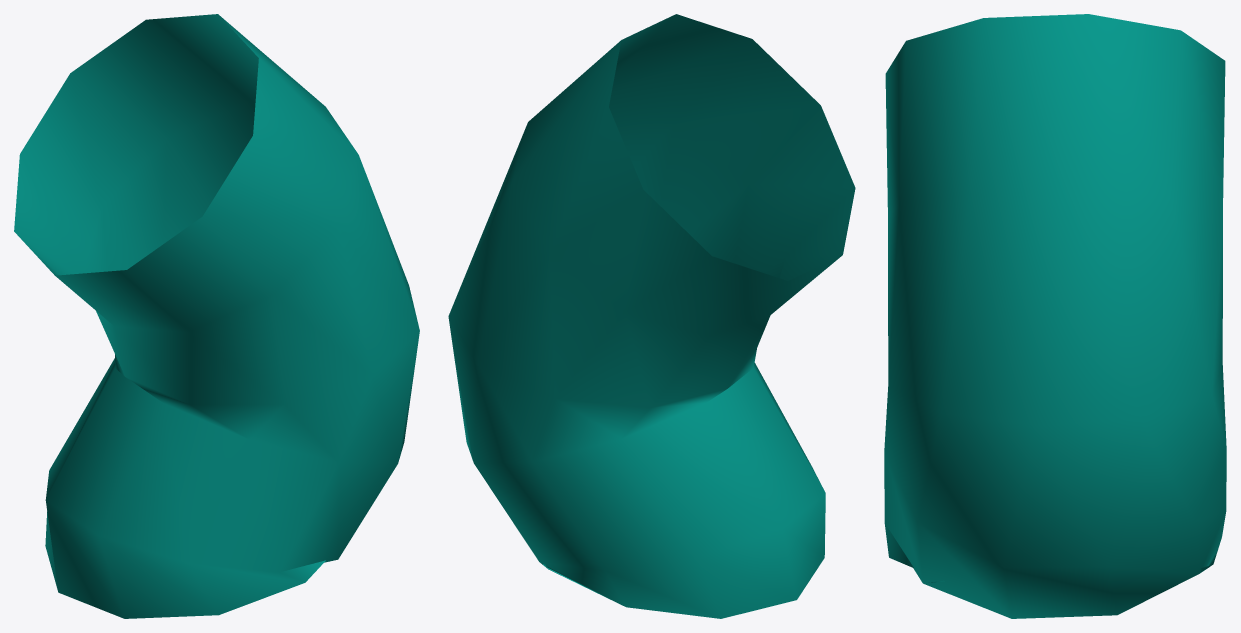
Rendered from testing_20221204203629.fbx.
The picture shows the model from 3 angles, left to right: view 1: azimuth 30°, elevation 25°; view 2: azimuth 150°, elevation 25°; view 3: azimuth 270°, elevation 25°; orthographic projection. The views are drawn at different scales.
Parts seen in each view (by area): view 1: TubeRenderer(Clone); view 2: TubeRenderer(Clone); view 3: TubeRenderer(Clone).
Boxes of the visible parts, <box> form: TubeRenderer(Clone): <box>14,14,419,618</box>; TubeRenderer(Clone): <box>448,14,855,618</box>; TubeRenderer(Clone): <box>884,14,1226,618</box>.
Bounding box in the file's own units: 0.1773 × 0.2489 × 0.1333.
